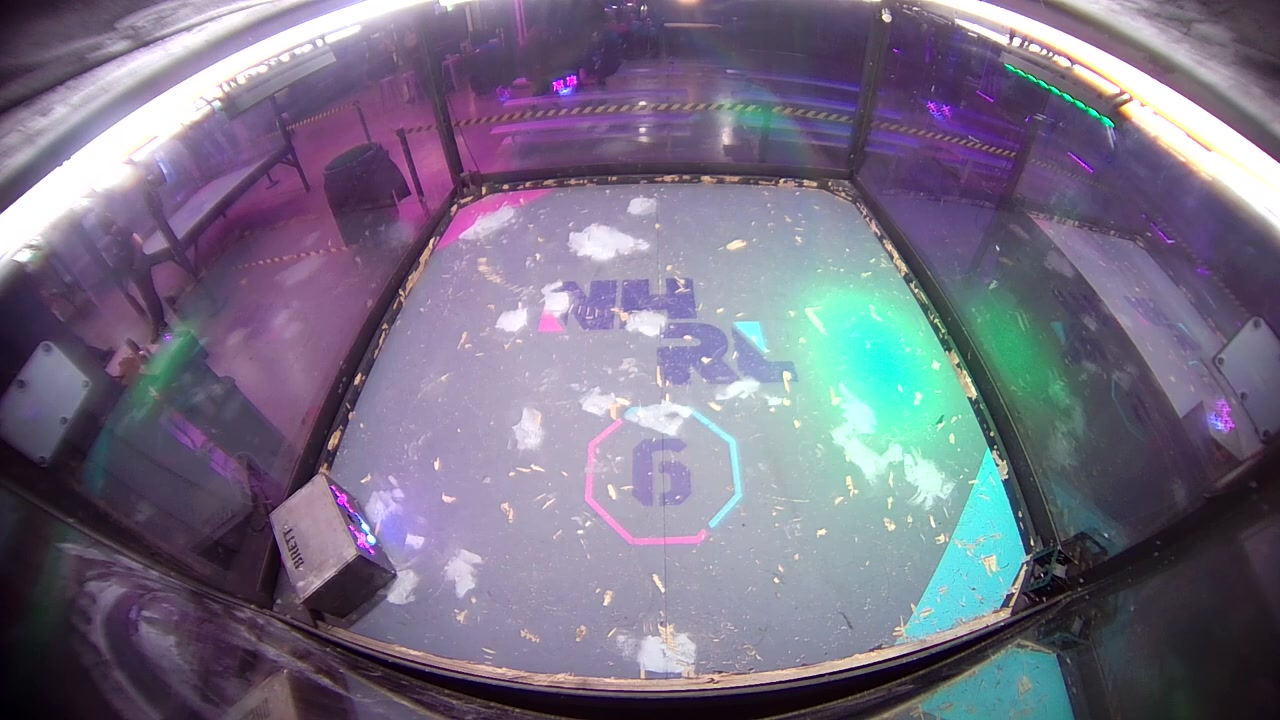housebot: (269, 470, 396, 624)
